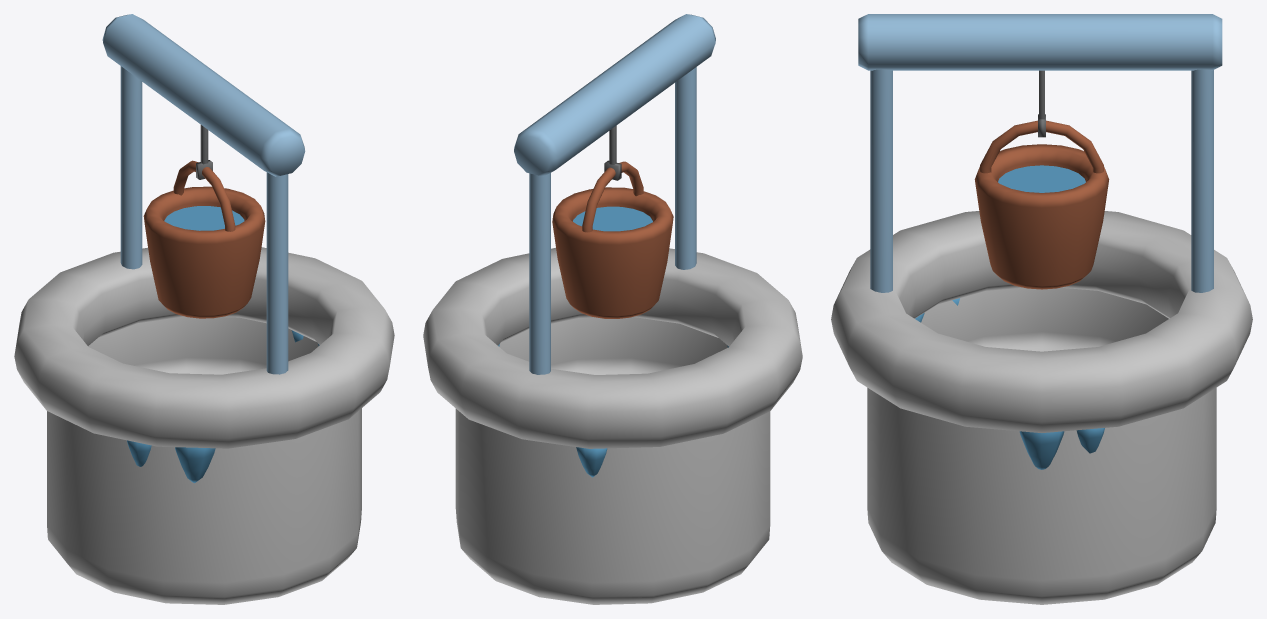
File: Well.fbx
3 views of the same model, side by side, from view 1: azimuth 30°, elevation 25°; view 2: azimuth 150°, elevation 25°; view 3: azimuth 270°, elevation 25° (orthographic). The views are drawn at different scales.
Parts seen in each view (by area): view 1: pCube8; view 2: pCube8; view 3: pCube8.
Boxes of the visible parts, bbox=[...] form: pCube8: bbox=[14, 14, 394, 604]; pCube8: bbox=[423, 14, 802, 604]; pCube8: bbox=[831, 14, 1252, 604].
Bounding box in the file's own units: 2.58 × 3.49 × 2.58.
